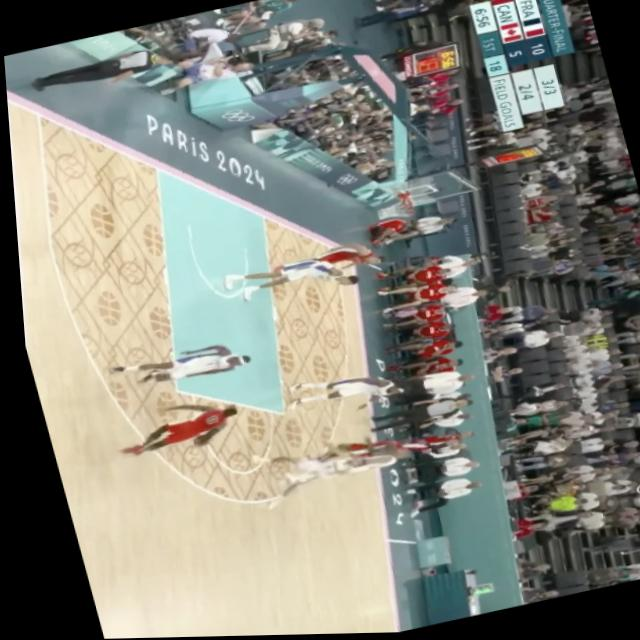ball_handler: (101, 392, 245, 469)
